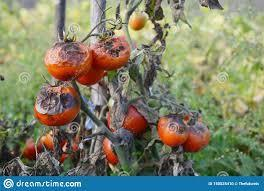tomato late blight: (83, 24, 132, 77), (157, 112, 212, 154), (34, 81, 82, 128), (44, 43, 94, 83)
